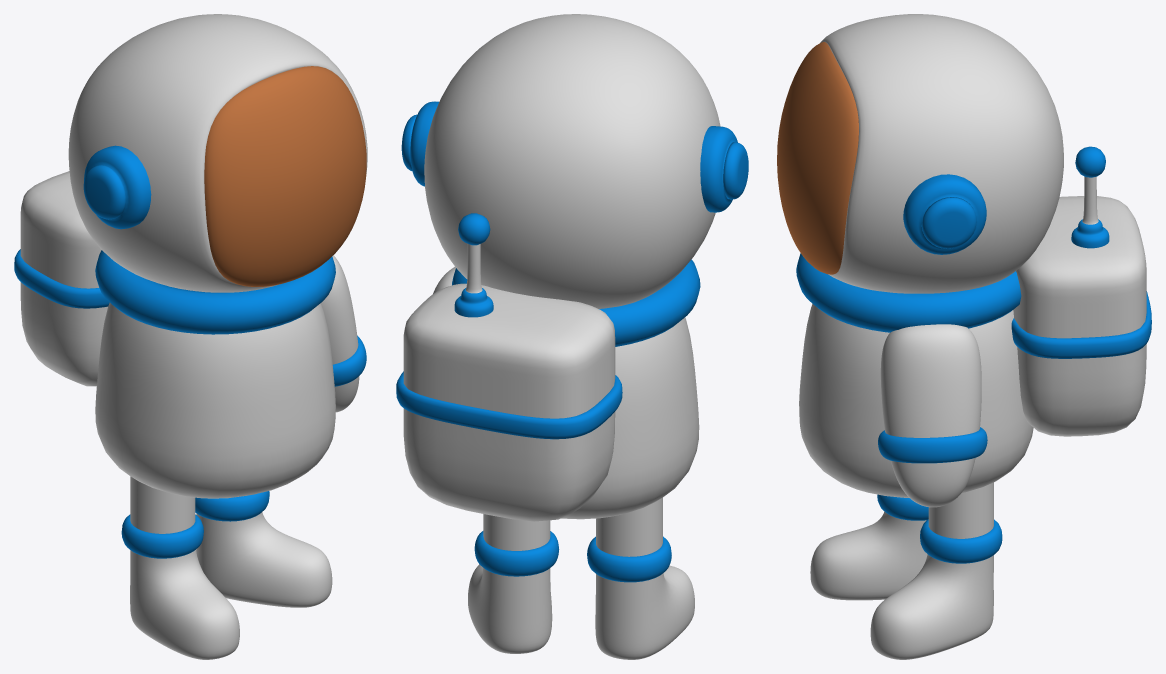
Rendered from spaceman.glb.
3 renders of one model, left to right at view 1: azimuth 30°, elevation 25°; view 2: azimuth 150°, elevation 25°; view 3: azimuth 270°, elevation 25°, orthographic. The views are drawn at different scales.
Parts seen in each view (by area): view 1: Cube.001, Torus.001, Cube.025, Cube.017, Cube.027, Cube.019; view 2: Cube.001, Cube.025, Torus.001, Cube.017, Cube.027; view 3: Cube.001, Cube.025, Torus.001, Cube.019, Cube.027, Cube.017.
Boxes of the visible parts, <box> form: Cube.001: <box>68,14,367,292</box>; Torus.001: <box>95,250,335,498</box>; Cube.025: <box>14,171,109,386</box>; Cube.017: <box>121,476,239,659</box>; Cube.027: <box>195,491,332,607</box>; Cube.019: <box>320,255,366,412</box>; Cube.001: <box>401,14,748,308</box>; Cube.025: <box>396,213,622,521</box>; Torus.001: <box>452,259,700,519</box>; Cube.017: <box>587,497,694,659</box>; Cube.027: <box>468,514,559,653</box>; Cube.001: <box>777,14,1063,293</box>; Cube.025: <box>1011,146,1151,436</box>; Torus.001: <box>796,253,1033,497</box>; Cube.019: <box>878,324,987,507</box>; Cube.027: <box>870,482,1002,659</box>; Cube.017: <box>810,494,928,600</box>.
Bounding box in the file's own units: 0.655 × 1.25 × 0.724.
